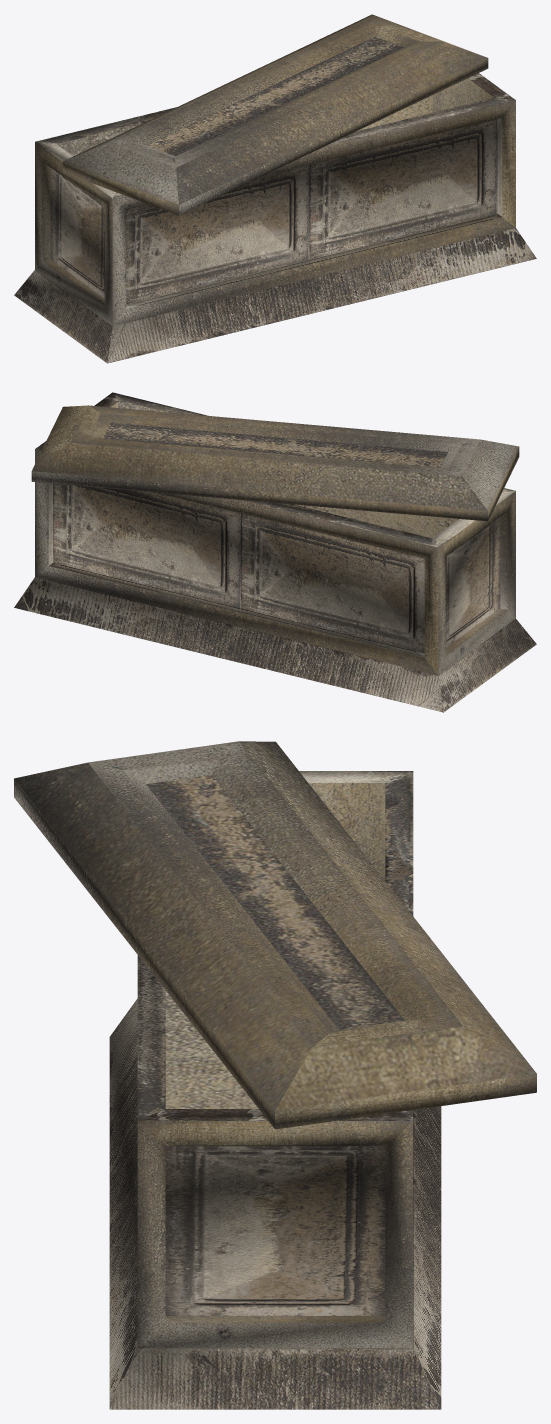
The model's file is Stone_Coffin@Close.fbx.
The picture shows the model from 3 angles, top to bottom: view 1: azimuth 30°, elevation 25°; view 2: azimuth 150°, elevation 25°; view 3: azimuth 270°, elevation 25°; orthographic projection. The views are drawn at different scales.
Visible parts, largest first — view 1: Corpus, Cap; view 2: Corpus, Cap; view 3: Corpus, Cap.
Boxes of the visible parts, <box> form: Corpus: <box>14,73,536,363</box>; Cap: <box>62,14,488,215</box>; Corpus: <box>14,392,536,712</box>; Cap: <box>31,405,519,521</box>; Corpus: <box>109,771,441,1409</box>; Cap: <box>14,741,536,1129</box>.
Bounding box in the file's own units: 39.94 × 16.44 × 23.69.
Materials: 1 (1 with a texture image).
